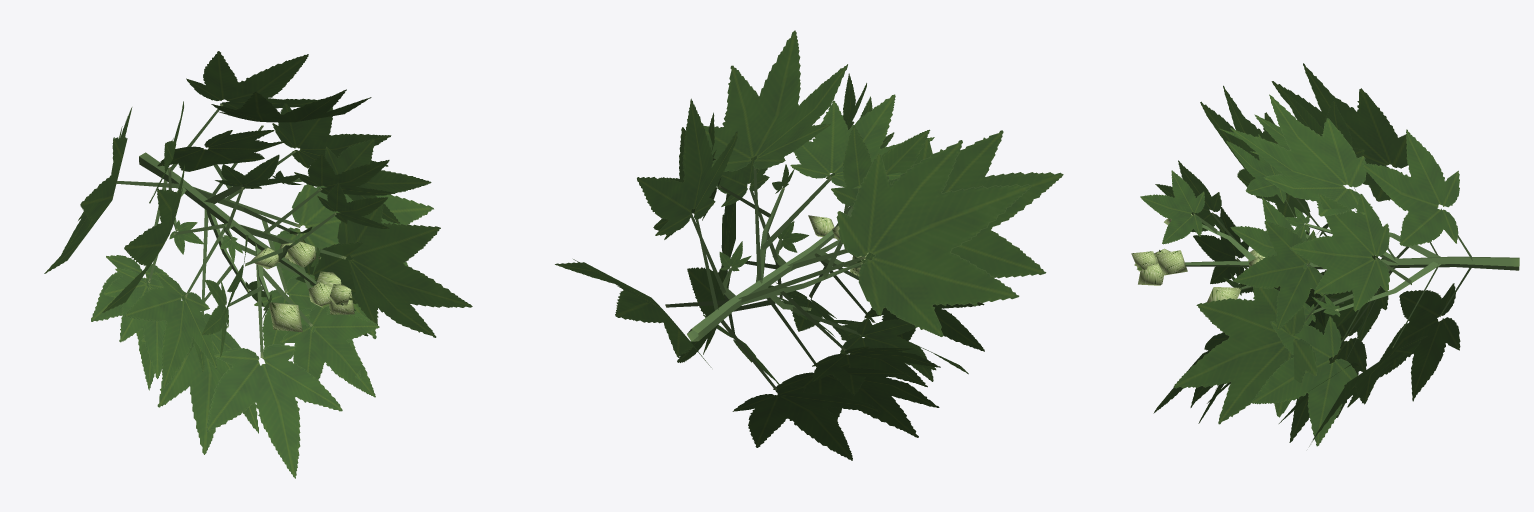
File: p_male_kush_preflower_c0_cards.obj
The picture shows the model from 3 angles, left to right: view 1: azimuth 30°, elevation 25°; view 2: azimuth 150°, elevation 25°; view 3: azimuth 270°, elevation 25°; orthographic projection. The views are drawn at different scales.
Bounding box in the file's own units: 1.63 × 1.31 × 1.12.
Materials: 1 (1 with a texture image).
